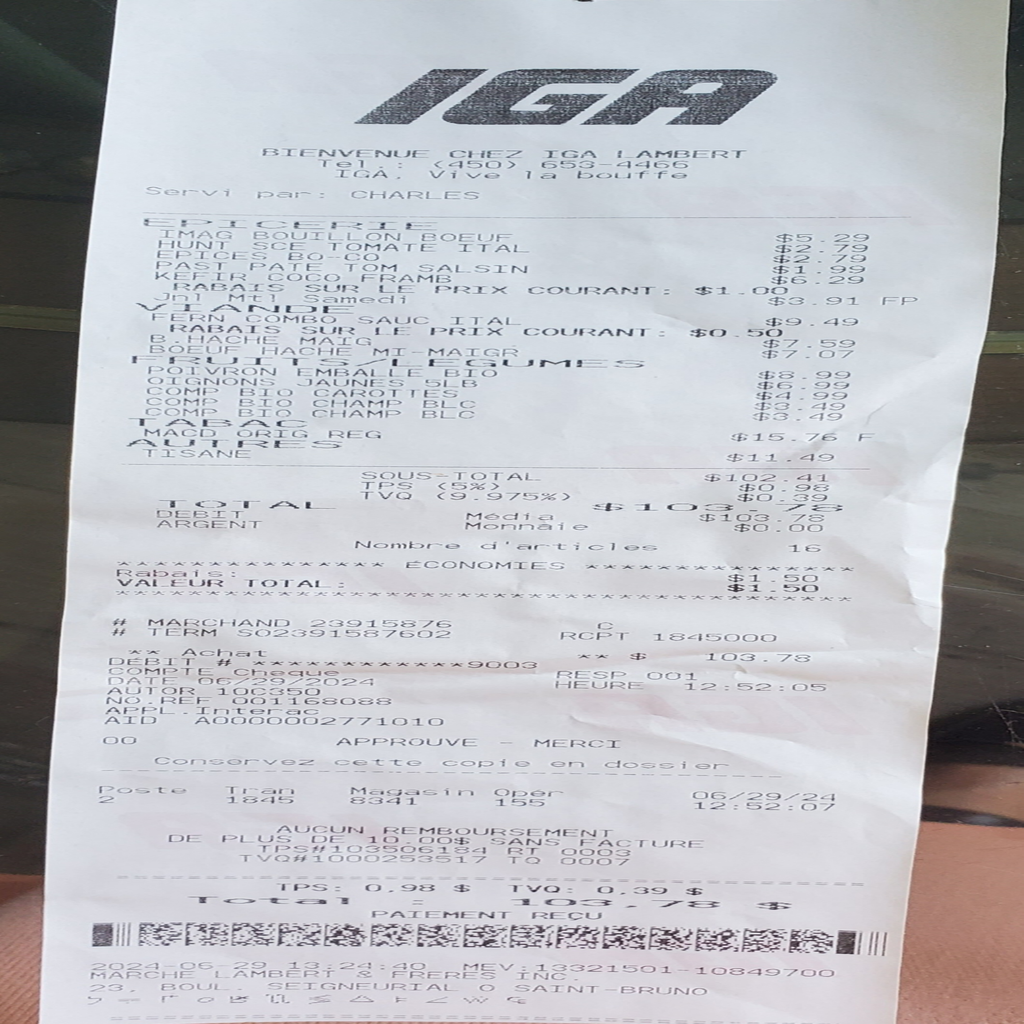recipt: (40, 0, 1018, 1022)
